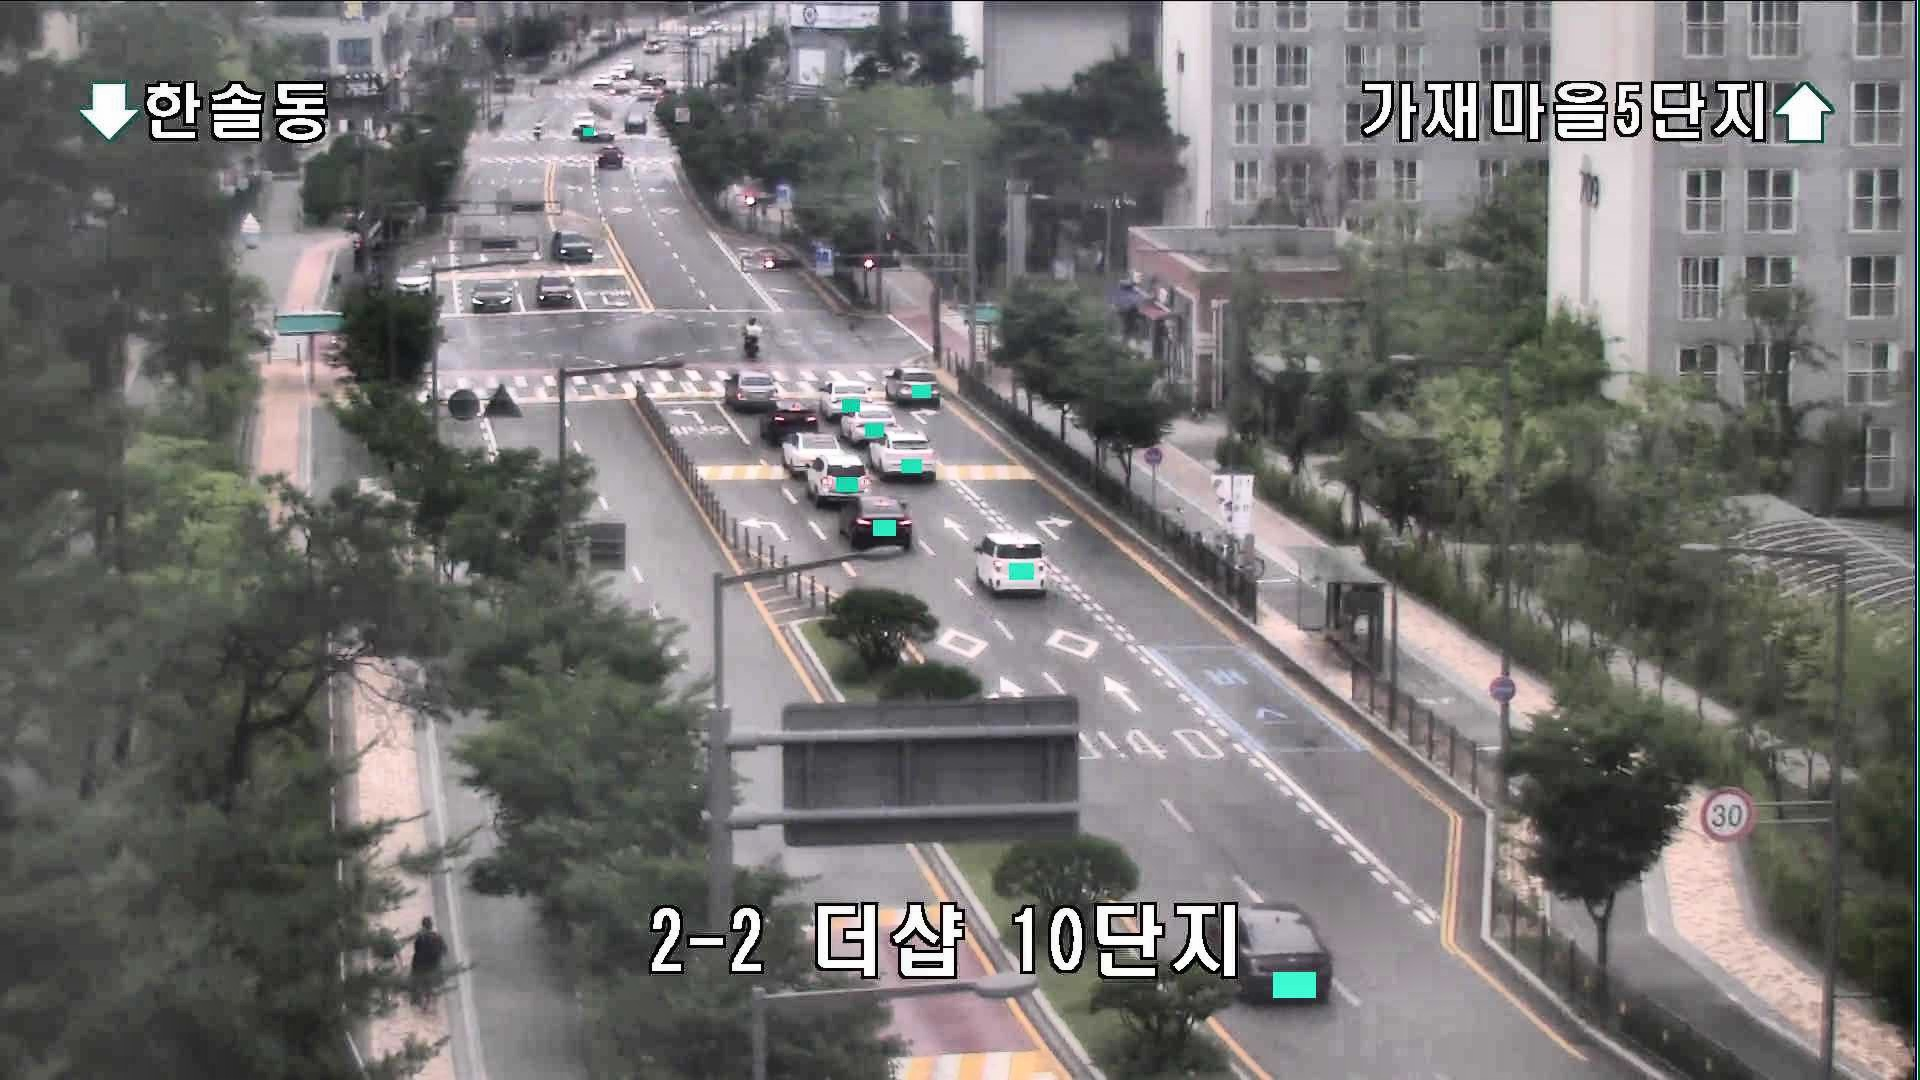sidewalk: (411, 916, 446, 1019), (373, 930, 404, 1019)
